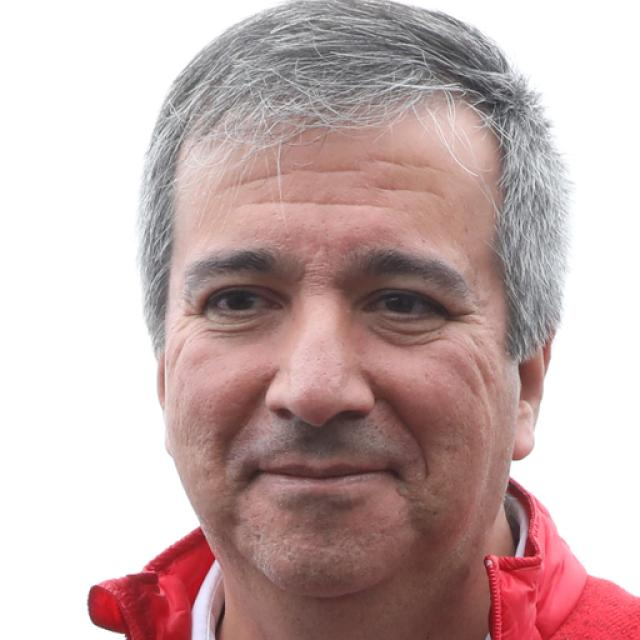Wrinkle: (199, 157, 365, 204), (384, 390, 434, 480), (244, 191, 388, 213), (376, 180, 454, 205), (377, 148, 457, 170)
